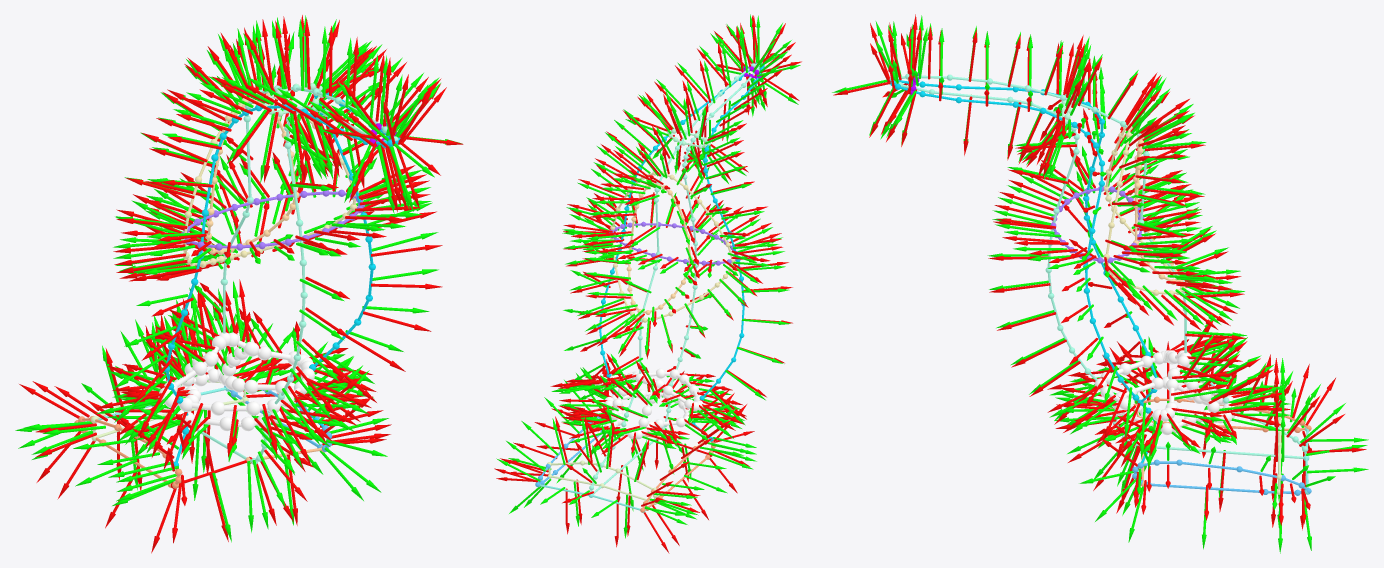
File: t2f_vacuum.gltf
3 views of the same model, side by side, from view 1: azimuth 30°, elevation 25°; view 2: azimuth 150°, elevation 25°; view 3: azimuth 270°, elevation 25° (orthographic). The views are drawn at different scales.
Size of the model in its own units: 0.5022 by 0.8729 by 0.8593.
